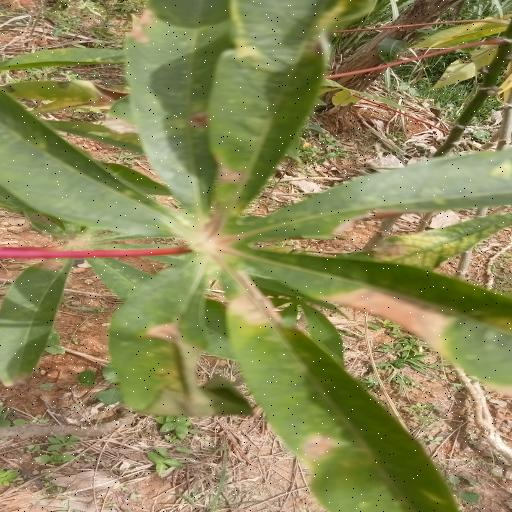Cassava_Root_Rot: (7, 0, 512, 512)
